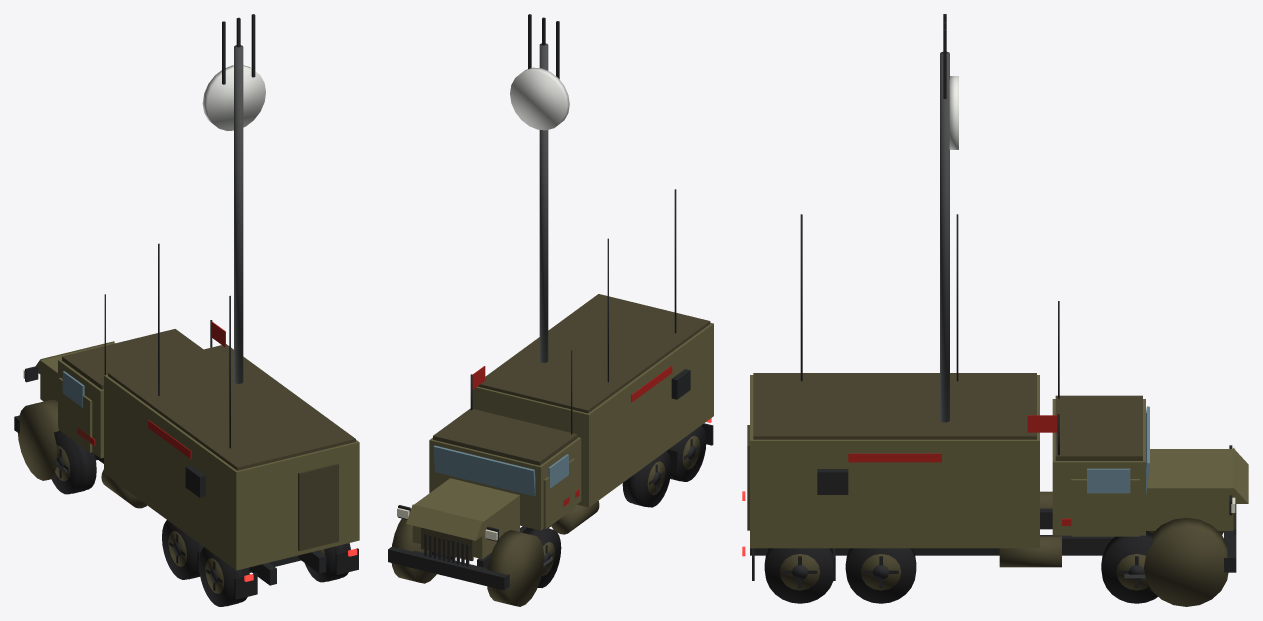
The model's file is Comms_Red.fbx.
The picture shows the model from 3 angles, left to right: view 1: azimuth 30°, elevation 25°; view 2: azimuth 150°, elevation 25°; view 3: azimuth 270°, elevation 25°; orthographic projection. The views are drawn at different scales.
Visible parts, largest first — view 1: Shelter, ShelterRoof, CabRoof, Mast, ShelterDoor, FenderArchL, Dish, DoorL1Panel, Cab, TyreL1, TyreL3, TyreL2 (+8 smaller); view 2: Shelter, ShelterRoof, CabRoof, Bonnet, FenderArchL, Cab, Dish, Windshield, Mast, Bumper, BonnetFront, DoorL1Panel (+8 smaller); view 3: Shelter, ShelterRoof, Bonnet, FenderArchR, CabRoof, Mast, DoorR1Panel, Cab, TyreR2, TyreR3, FrameRailR, TyreR1 (+8 smaller).
Part boxes in pixels (x1=…): Shelter: x1=104, y1=374, x2=359, y2=570; ShelterRoof: x1=108, y1=344, x2=355, y2=470; CabRoof: x1=62, y1=329, x2=203, y2=389; Mast: x1=234, y1=45, x2=243, y2=383; ShelterDoor: x1=298, y1=463, x2=338, y2=551; FenderArchL: x1=17, y1=399, x2=58, y2=480; Dish: x1=202, y1=65, x2=265, y2=130; DoorL1Panel: x1=58, y1=377, x2=92, y2=452; Cab: x1=58, y1=359, x2=103, y2=458; TyreL1: x1=51, y1=431, x2=96, y2=494; TyreL3: x1=199, y1=547, x2=249, y2=606; TyreL2: x1=162, y1=520, x2=197, y2=579; Shelter: x1=472, y1=322, x2=713, y2=507; ShelterRoof: x1=477, y1=294, x2=710, y2=413; CabRoof: x1=433, y1=408, x2=577, y2=465; Bonnet: x1=412, y1=478, x2=519, y2=559; FenderArchL: x1=487, y1=530, x2=544, y2=606; Cab: x1=429, y1=437, x2=581, y2=530; Dish: x1=510, y1=67, x2=569, y2=130; Windshield: x1=433, y1=445, x2=535, y2=496; Mast: x1=539, y1=43, x2=548, y2=362; Bumper: x1=388, y1=546, x2=509, y2=590; BonnetFront: x1=406, y1=504, x2=482, y2=540; DoorL1Panel: x1=543, y1=458, x2=575, y2=529; Shelter: x1=750, y1=375, x2=1039, y2=548; ShelterRoof: x1=753, y1=373, x2=1036, y2=439; Bonnet: x1=1146, y1=449, x2=1233, y2=530; FenderArchR: x1=1144, y1=517, x2=1228, y2=606; CabRoof: x1=1055, y1=395, x2=1142, y2=460; Mast: x1=940, y1=52, x2=949, y2=422; DoorR1Panel: x1=1071, y1=479, x2=1139, y2=536; Cab: x1=1052, y1=399, x2=1145, y2=535; TyreR2: x1=846, y1=548, x2=915, y2=603; TyreR3: x1=765, y1=548, x2=833, y2=603; FrameRailR: x1=750, y1=535, x2=1114, y2=555; TyreR1: x1=1101, y1=531, x2=1157, y2=603.
Bounding box in the file's own units: 274 × 812 × 1004.
